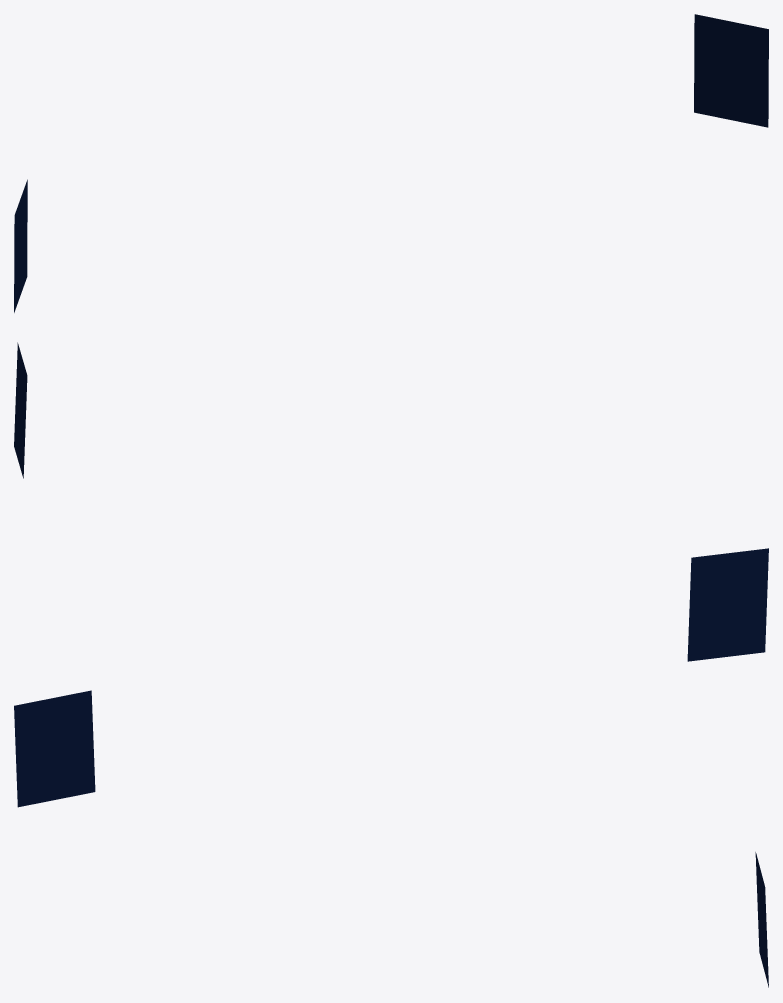
The picture shows the model from 3 angles, top to bottom: view 1: azimuth 30°, elevation 25°; view 2: azimuth 150°, elevation 25°; view 3: azimuth 330°, elevation 25°; orthographic projection. The views are drawn at different scales.
Visible parts, largest first — view 1: Cube.2006; view 2: Cube.2006; view 3: Cube.2006.
Boxes of the visible parts, x1,y1,x2,y2 form: Cube.2006: (14,14,768,312); Cube.2006: (14,342,768,661); Cube.2006: (14,690,768,987).
Size of the model in its own units: 1530 by 224 by 156.
